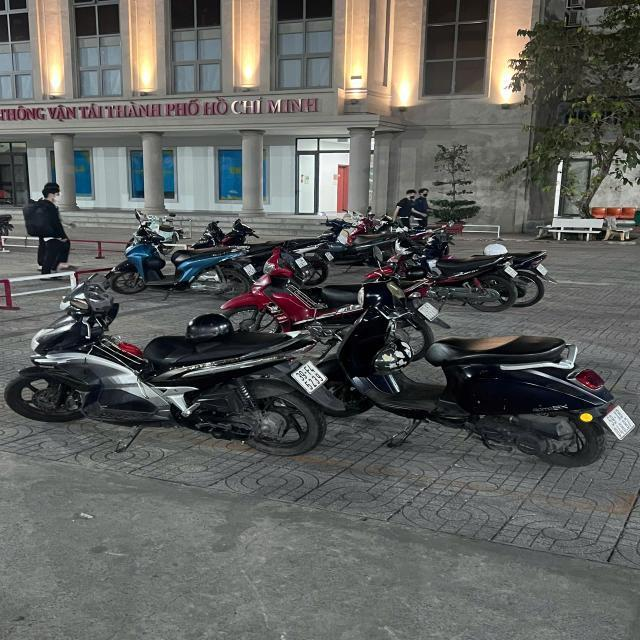motorcycle: (9, 272, 343, 466), (325, 275, 639, 472), (224, 246, 446, 362), (373, 234, 555, 316), (107, 210, 253, 298)
